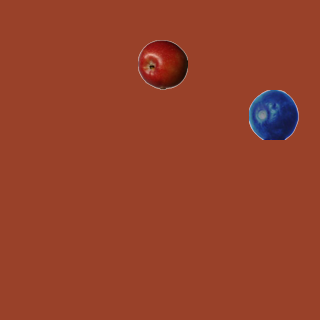Apple Braeburn: (137, 39, 187, 89)
Huckleberry: (248, 89, 298, 139)
